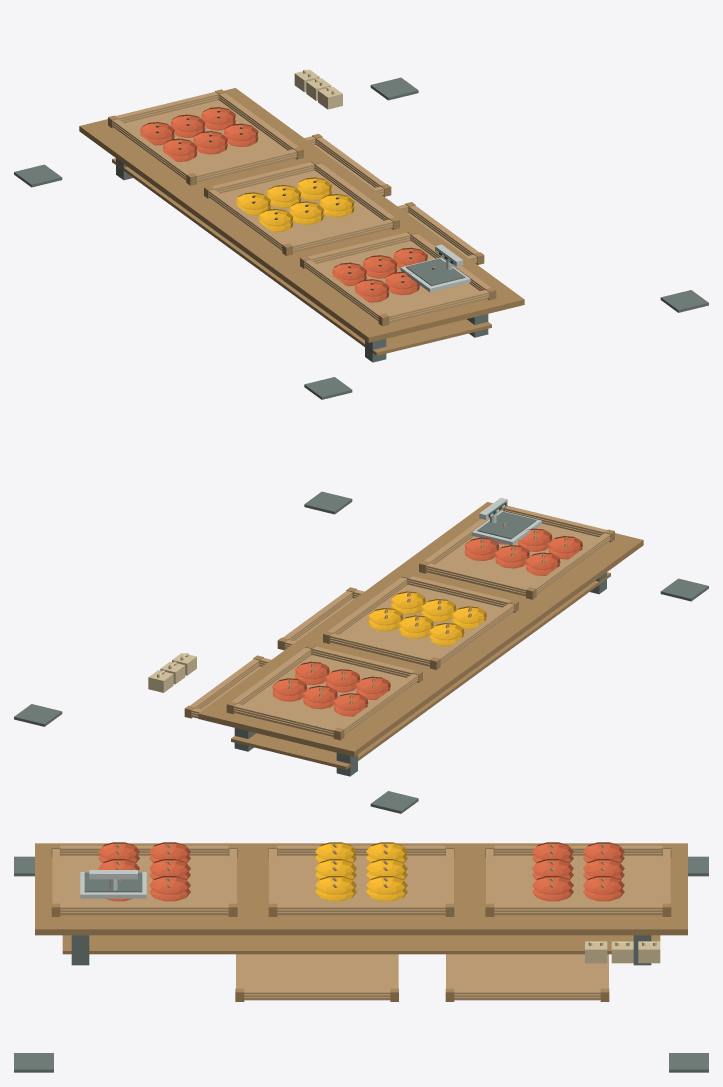
File: market-fruit-ground.glb
3 renders of one model, top to bottom at view 1: azimuth 30°, elevation 25°; view 2: azimuth 150°, elevation 25°; view 3: azimuth 270°, elevation 25°, orthographic. The views are drawn at different scales.
Parts seen in each view (by area): view 1: fruit market stall; view 2: fruit market stall; view 3: fruit market stall.
Part boxes in pixels (x1,y1,x2,y2): fruit market stall: (14,69,708,399); fruit market stall: (14,491,708,813); fruit market stall: (14,842,708,1072).
Size of the model in its own units: 2.28 by 0.4237 by 3.14.
